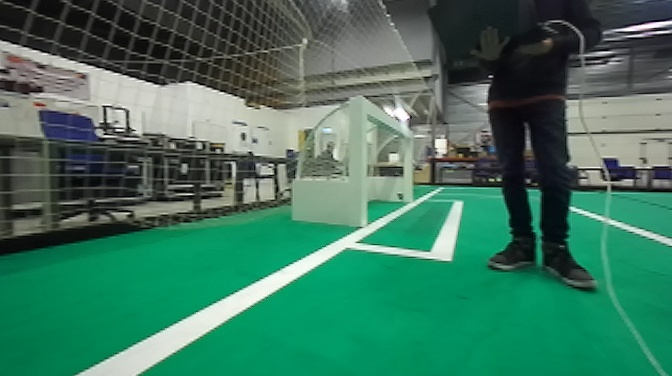goalpost: (341, 85, 375, 235), (395, 115, 422, 214)
human: (426, 1, 614, 304)
